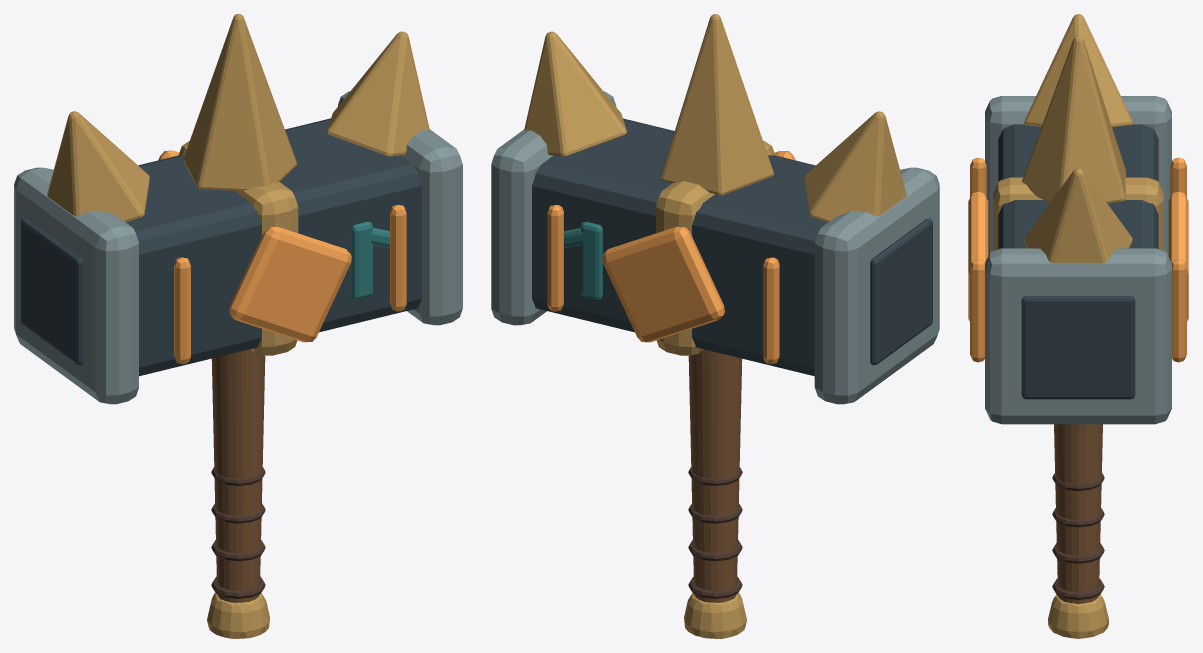
Rendered from embermaul.glb.
3 views of the same model, side by side, from view 1: azimuth 30°, elevation 25°; view 2: azimuth 150°, elevation 25°; view 3: azimuth 270°, elevation 25° (orthographic). The views are drawn at different scales.
Visible parts, largest first — view 1: ForgedHead.002, GoldCollar.002, StrikingFace.002, EmberCore, AshHandle.002, TealRune.002, LeatherGrip.002; view 2: ForgedHead.002, GoldCollar.002, StrikingFace.002, EmberCore, AshHandle.002, TealRune.002, LeatherGrip.002; view 3: StrikingFace.002, GoldCollar.002, ForgedHead.002, EmberCore, AshHandle.002, LeatherGrip.002.
Boxes of the visible parts, left/top/right/bottom form: ForgedHead.002: left=21, top=118, right=421, bottom=376; GoldCollar.002: left=47, top=14, right=429, bottom=638; StrikingFace.002: left=14, top=91, right=462, bottom=404; EmberCore: left=158, top=150, right=406, bottom=363; AshHandle.002: left=211, top=349, right=265, bottom=602; TealRune.002: left=351, top=221, right=389, bottom=299; LeatherGrip.002: left=211, top=467, right=265, bottom=598; ForgedHead.002: left=532, top=118, right=932, bottom=376; GoldCollar.002: left=524, top=14, right=906, bottom=638; StrikingFace.002: left=491, top=91, right=939, bottom=404; EmberCore: left=547, top=151, right=795, bottom=364; AshHandle.002: left=688, top=349, right=742, bottom=602; TealRune.002: left=564, top=222, right=602, bottom=299; LeatherGrip.002: left=688, top=467, right=742, bottom=598; StrikingFace.002: left=985, top=96, right=1171, bottom=424; GoldCollar.002: left=993, top=14, right=1163, bottom=638; ForgedHead.002: left=998, top=124, right=1158, bottom=399; EmberCore: left=968, top=157, right=1188, bottom=362; AshHandle.002: left=1054, top=424, right=1102, bottom=604; LeatherGrip.002: left=1052, top=473, right=1104, bottom=599.
Bounding box in the file's own units: 0.633 × 0.98 × 0.33.
